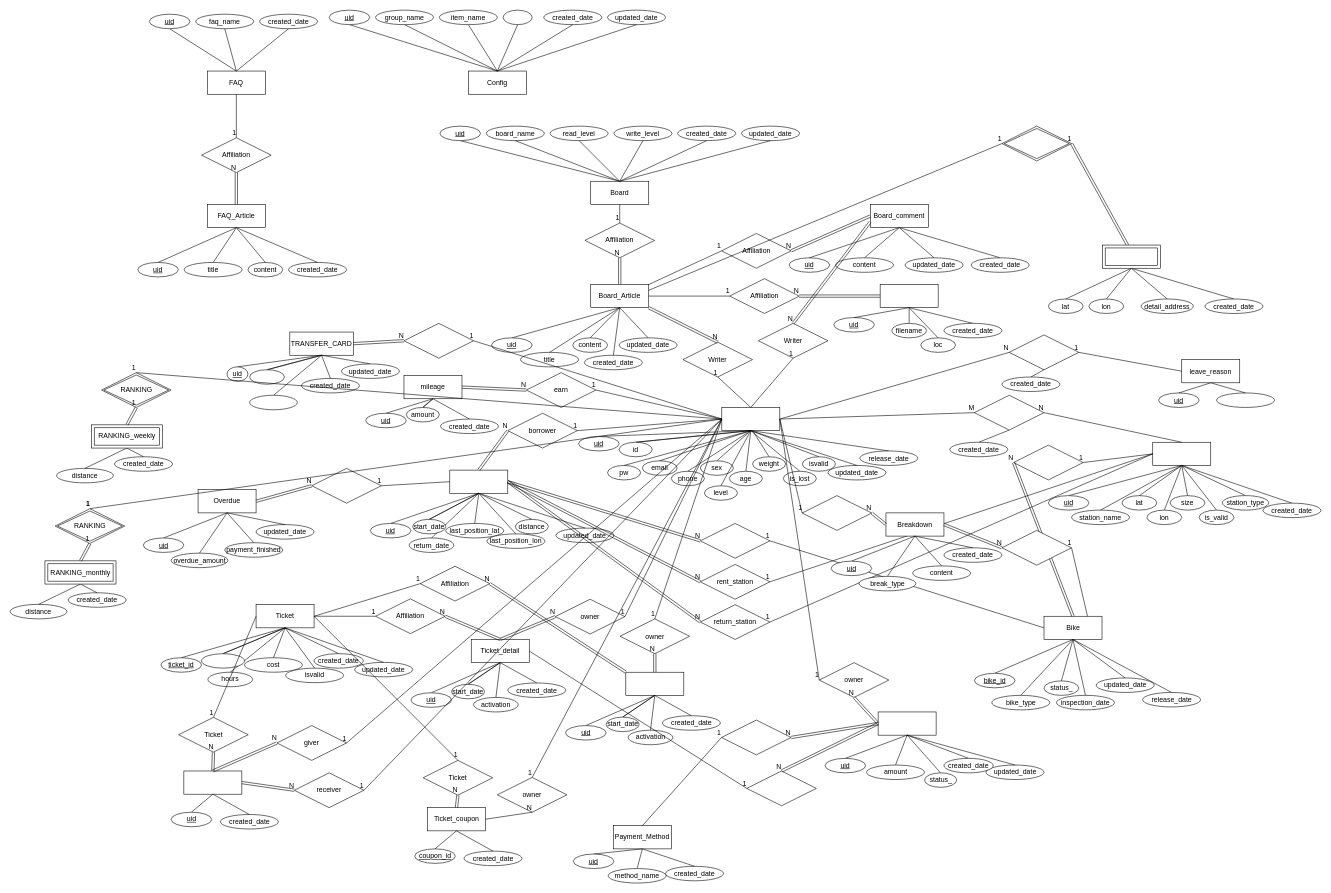
The diagram is 1331 pixels wide and 893 high, and some of its shapes have lost their labels. Each missing label, with the centre of its shape:
"Attachments" goes at [909,296].
"brought_ticket_detail" goes at [781,788].
"card_info" goes at [438,340].
"card_number" goes at [273,402].
"card_type" goes at [266,376].
"delay" goes at [346,485].
"Favorite" goes at [1009,412].
"Member" goes at [750,419].
"method" goes at [756,737].
"msg" goes at [1245,399].
"neglect" goes at [1131,256].
"neglect_data" goes at [1036,143].
"Parking" goes at [1048,462].
"Payment_log" goes at [907,723].
"reason" goes at [1044,352].
"Rent" goes at [478,481].
"rent_bike" goes at [735,540].
"report" goes at [837,512].
"Station" goes at [1181,453].
"target_bike" goes at [1036,547].
"Ticket_detail_expired" goes at [654,683].
"Ticket_gift" goes at [212,782].
"ticket_type" goes at [222,660].
"value" goes at [517,17].
